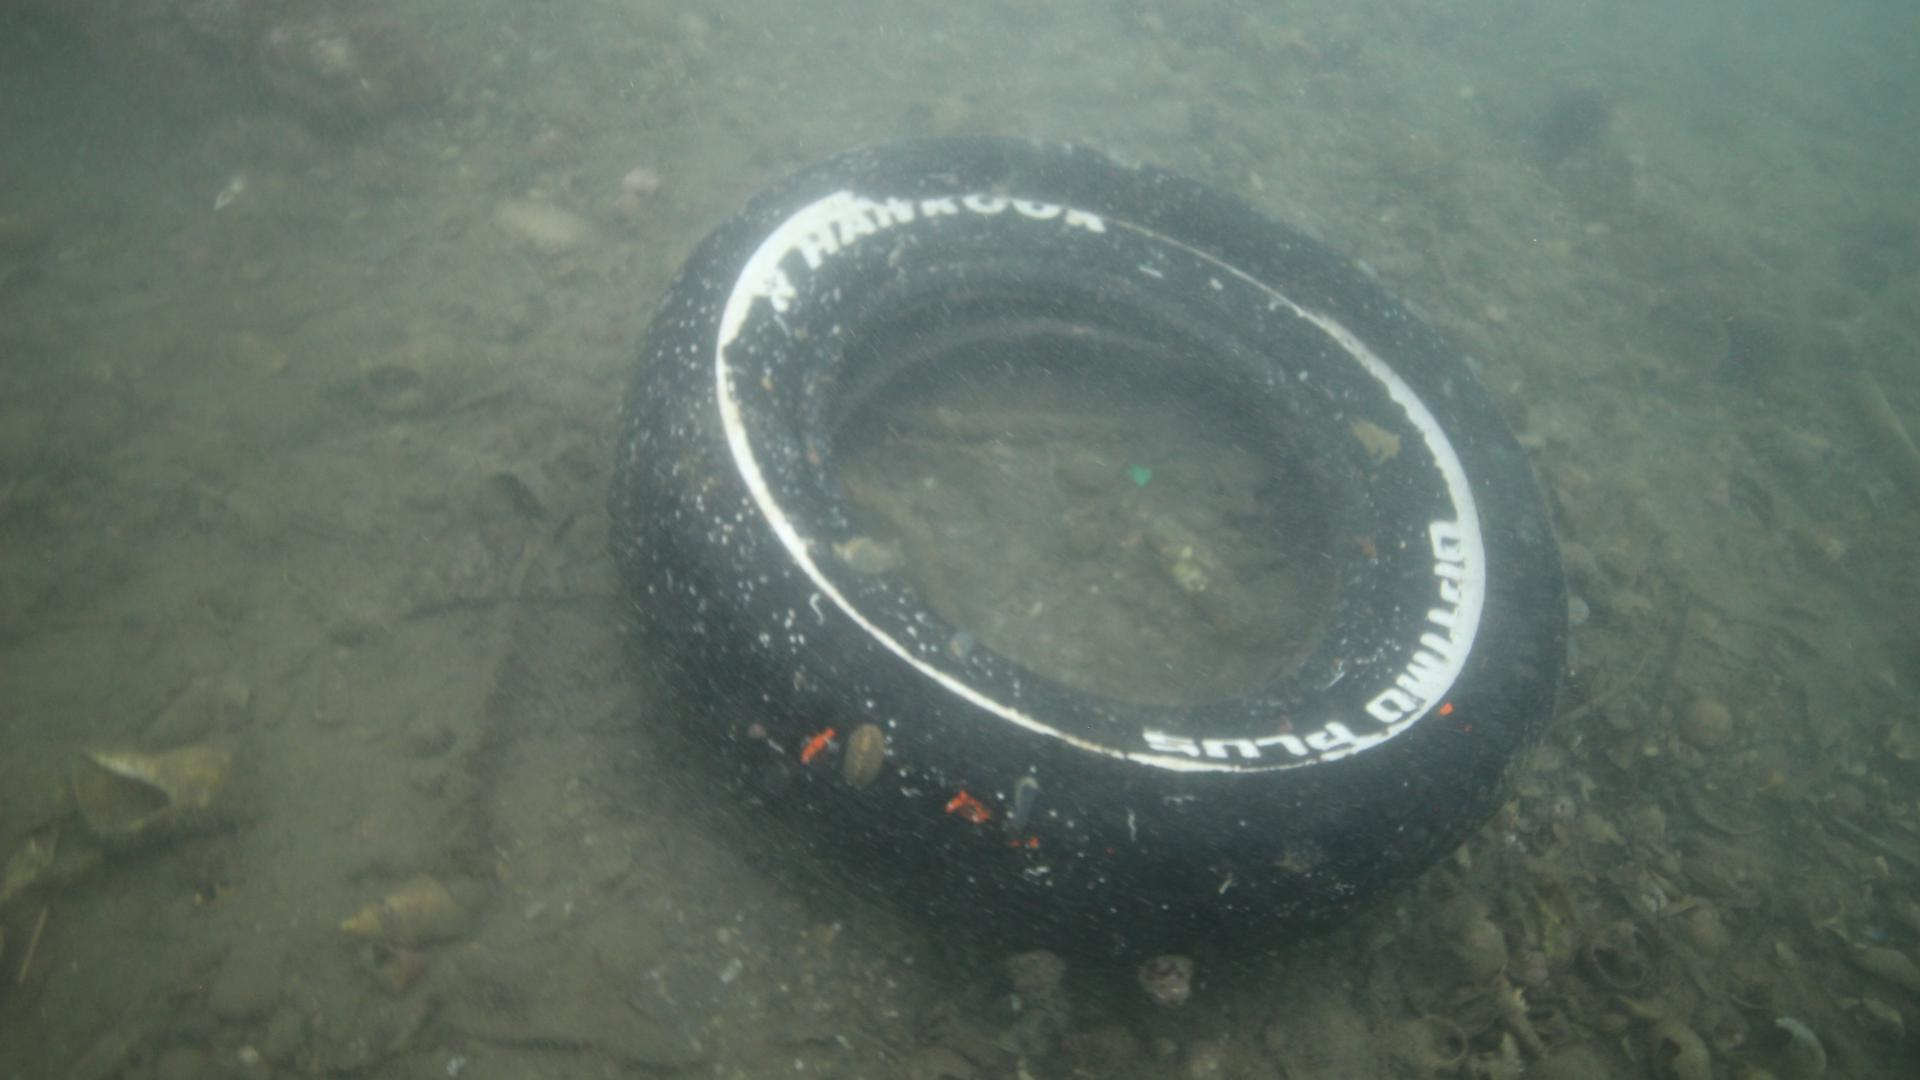tire: (607, 131, 1563, 981)
